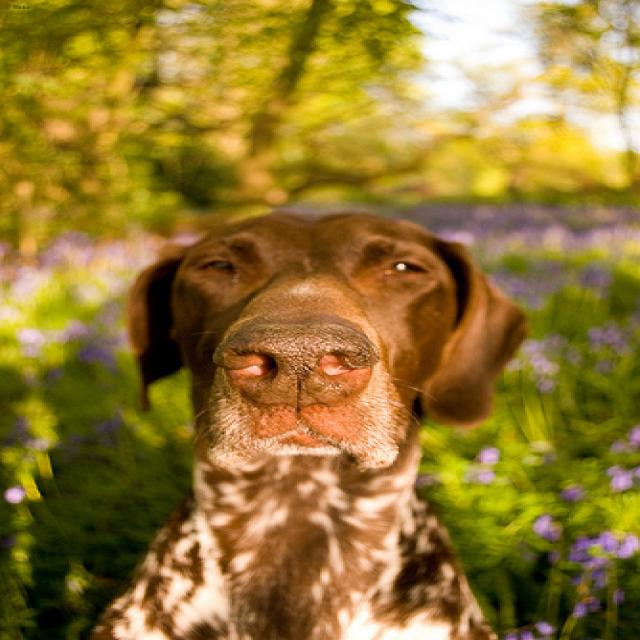dog-german_shorthaired: (65, 201, 550, 637)
